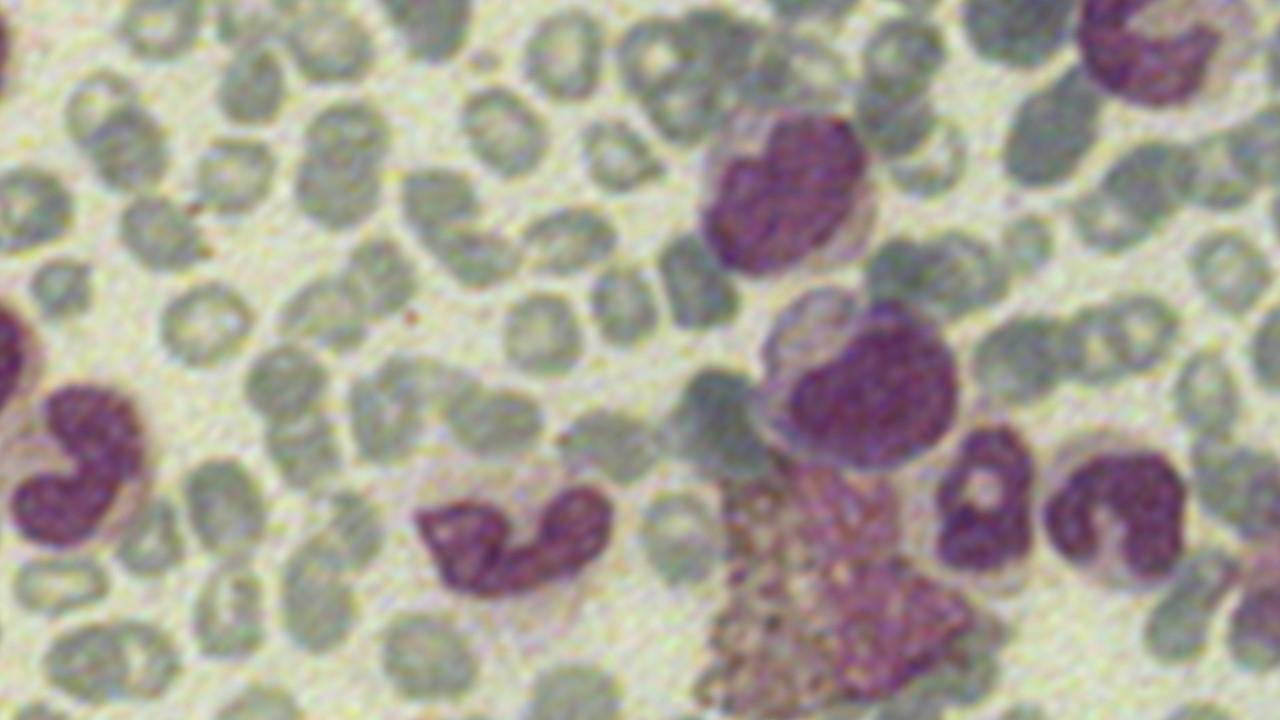WBC: (0, 366, 154, 560)
